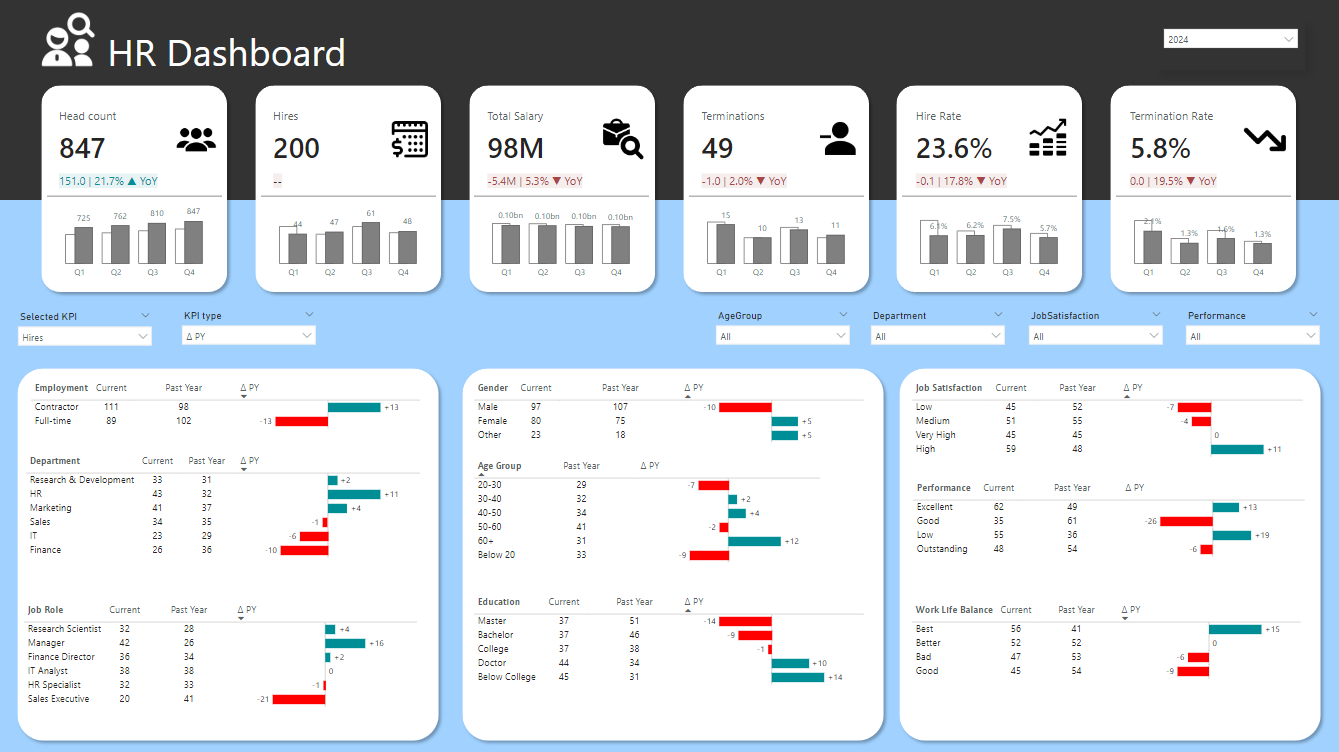

Layout of this report page (visuals, bound fields, positions):
{"tool":"powerbi","page":{"name":"HR Overview","canvas":[1920,1080],"ordinal":0},"visuals":[{"type":"shape","box":[0,0,1920,285.7],"z":0},{"type":"shape","box":[1580,113.3,283.3,313.3],"z":1000},{"type":"shape","box":[1278.3,516.7,620,550],"z":2000},{"type":"shape","box":[969.3,113.3,283.3,313.3],"z":3000},{"type":"shape","box":[18.3,516.7,620,550],"z":4000},{"type":"shape","box":[664,113.3,283.3,313.3],"z":5000},{"type":"shape","box":[655,516.7,620,550],"z":6000},{"type":"shape","box":[53.3,113.3,283.3,313.3],"z":7000},{"type":"shape","box":[358.7,113.3,283.3,313.3],"z":8000},{"type":"shape","box":[1274.7,113.3,283.3,313.3],"z":9000},{"type":"cardVisual","fields":{"Data":["_Measures.1_Headcount","_Measures.2_Hires","_Measures.3_TotalSalary","_Measures.4_Terminations","_Measures.5_HireRate","_Measures.6_TerminationRate"]},"box":[70,135,1850,150],"z":10000},{"type":"slicer","fields":{"Values":["Date.Year"]},"box":[1655.7,31.4,211,68],"z":11000},{"type":"clusteredColumnChart","title":" ","fields":{"Y":["_Measures.1_Headcount LY","_Measures.1_Headcount"],"Category":["Date.Quarter"]},"box":[70,255,250,150],"z":12000},{"type":"clusteredColumnChart","title":" ","fields":{"Y":["_Measures.2_Hires LY","_Measures.2_Hires"],"Category":["Date.Quarter"]},"box":[375,255,250,150],"z":13000},{"type":"clusteredColumnChart","title":" ","fields":{"Y":["_Measures.3_TotalSalary LY","_Measures.3_TotalSalary"],"Category":["Date.Quarter"]},"box":[680,255,250,150],"z":14000},{"type":"clusteredColumnChart","title":" ","fields":{"Y":["_Measures.4_Terminations LY","_Measures.4_Terminations"],"Category":["Date.Quarter"]},"box":[986.7,255,250,150],"z":15000},{"type":"clusteredColumnChart","title":" ","fields":{"Y":["_Measures.5_HireRate LY","_Measures.5_HireRate"],"Category":["Date.Quarter"]},"box":[1291.7,255,250,150],"z":16000},{"type":"clusteredColumnChart","title":" ","fields":{"Y":["_Measures.6_TerminationRate LY","_Measures.6_TerminationRate"],"Category":["Date.Quarter"]},"box":[1596.7,255,250,150],"z":17000},{"type":"slicer","fields":{"Values":["Metric Selection.Selected_KPI"]},"box":[18.6,438.6,211.4,67.1],"z":18000},{"type":"slicer","fields":{"Values":["KPI type.KPI type"]},"box":[252.9,437.1,211.4,68.6],"z":19000},{"type":"tableEx","fields":{"Values":["DataTable.Education","Metric Selection.Current","Metric Selection.Past Year","Metric Selection.DeltaPY SVG"]},"box":[674.3,845.7,570,145.7],"z":20000},{"type":"tableEx","fields":{"Values":["DataTable.EmploymentType","Metric Selection.Current","Metric Selection.Past Year","Metric Selection.DeltaPY SVG"]},"box":[41.4,540,570,91.4],"z":21000},{"type":"tableEx","fields":{"Values":["DataTable.Department","Metric Selection.Current","Metric Selection.Past Year","Metric Selection.DeltaPY SVG"]},"box":[34.3,644.3,577.1,201.4],"z":22000},{"type":"tableEx","fields":{"Values":["DataTable.AgeGroup","Metric Selection.Past Year","Metric Selection.DeltaPY SVG"]},"box":[674.3,651.4,570,181.4],"z":23000},{"type":"tableEx","fields":{"Values":["DataTable.Gender","Metric Selection.Current","Metric Selection.Past Year","Metric Selection.DeltaPY SVG"]},"box":[674.3,540,570,104.3],"z":24000},{"type":"tableEx","fields":{"Values":["DataTable.JobRole","Metric Selection.Current","Metric Selection.Past Year","Metric Selection.DeltaPY SVG"]},"box":[31.4,857.1,577.1,161.4],"z":25000},{"type":"tableEx","fields":{"Values":["DataTable.JobSatisfaction","Metric Selection.Current","Metric Selection.Past Year","Metric Selection.DeltaPY SVG"]},"box":[1300,540,571.4,142.9],"z":26000},{"type":"tableEx","fields":{"Values":["DataTable.Performance","Metric Selection.Current","Metric Selection.Past Year","Metric Selection.DeltaPY SVG"]},"box":[1301.4,682.9,570,135.7],"z":27000},{"type":"tableEx","fields":{"Values":["DataTable.WorkLifeBalance","Metric Selection.Current","Metric Selection.Past Year","Metric Selection.DeltaPY SVG"]},"box":[1300,857.1,571.4,132.9],"z":28000},{"type":"slicer","fields":{"Values":["DataTable.AgeGroup"]},"box":[1015.7,437.1,211.4,68.6],"z":29000},{"type":"slicer","fields":{"Values":["DataTable.Department"]},"box":[1237.1,437.1,211.4,68.6],"z":30000},{"type":"slicer","fields":{"Values":["DataTable.Performance"]},"box":[1687.1,437.1,211.4,68.6],"z":31000},{"type":"slicer","fields":{"Values":["DataTable.JobSatisfaction"]},"box":[1462.9,437.1,211.4,68.6],"z":32000},{"type":"image","box":[551.4,152.9,74.3,91.4],"z":33000},{"type":"image","box":[855.7,162.9,74.3,71.4],"z":34000},{"type":"image","box":[1162.9,165.7,74.3,64.3],"z":35000},{"type":"image","box":[1462.9,162.9,74.3,65.7],"z":36000},{"type":"image","box":[1772.9,164.9,74.3,70],"z":37000},{"type":"image","box":[245.7,162.9,74.3,71.4],"z":38000},{"type":"textbox","box":[8.6,5.7,654.3,224.3],"z":39000},{"type":"image","box":[52.9,12.9,95.7,87.1],"z":40000}]}

Visuals, with their boxes in screenshot pixels (x1, y1, x2, y2), scaled from the page's 1920x1080 canvas onto the 1339x752 screenshot:
shape: {"x1": 0, "y1": 0, "x2": 1338, "y2": 199}
shape: {"x1": 1102, "y1": 79, "x2": 1299, "y2": 297}
shape: {"x1": 891, "y1": 360, "x2": 1324, "y2": 743}
shape: {"x1": 676, "y1": 79, "x2": 874, "y2": 297}
shape: {"x1": 13, "y1": 360, "x2": 445, "y2": 743}
shape: {"x1": 463, "y1": 79, "x2": 661, "y2": 297}
shape: {"x1": 457, "y1": 360, "x2": 889, "y2": 743}
shape: {"x1": 37, "y1": 79, "x2": 235, "y2": 297}
shape: {"x1": 250, "y1": 79, "x2": 448, "y2": 297}
shape: {"x1": 889, "y1": 79, "x2": 1087, "y2": 297}
cardVisual - _Measures.1_Headcount x _Measures.2_Hires: {"x1": 49, "y1": 94, "x2": 1338, "y2": 198}
slicer - Date.Year: {"x1": 1155, "y1": 22, "x2": 1302, "y2": 69}
" " clusteredColumnChart: {"x1": 49, "y1": 178, "x2": 223, "y2": 282}
" " clusteredColumnChart: {"x1": 262, "y1": 178, "x2": 436, "y2": 282}
" " clusteredColumnChart: {"x1": 474, "y1": 178, "x2": 649, "y2": 282}
" " clusteredColumnChart: {"x1": 688, "y1": 178, "x2": 862, "y2": 282}
" " clusteredColumnChart: {"x1": 901, "y1": 178, "x2": 1075, "y2": 282}
" " clusteredColumnChart: {"x1": 1114, "y1": 178, "x2": 1288, "y2": 282}
slicer - Metric Selection.Selected_KPI: {"x1": 13, "y1": 305, "x2": 160, "y2": 352}
slicer - KPI type.KPI type: {"x1": 176, "y1": 304, "x2": 324, "y2": 352}
tableEx - DataTable.Education x Metric Selection.Current: {"x1": 470, "y1": 589, "x2": 868, "y2": 690}
tableEx - DataTable.EmploymentType x Metric Selection.Current: {"x1": 29, "y1": 376, "x2": 426, "y2": 440}
tableEx - DataTable.Department x Metric Selection.Current: {"x1": 24, "y1": 449, "x2": 426, "y2": 589}
tableEx - DataTable.AgeGroup x Metric Selection.Past Year: {"x1": 470, "y1": 454, "x2": 868, "y2": 580}
tableEx - DataTable.Gender x Metric Selection.Current: {"x1": 470, "y1": 376, "x2": 868, "y2": 449}
tableEx - DataTable.JobRole x Metric Selection.Current: {"x1": 22, "y1": 597, "x2": 424, "y2": 709}
tableEx - DataTable.JobSatisfaction x Metric Selection.Current: {"x1": 907, "y1": 376, "x2": 1305, "y2": 476}
tableEx - DataTable.Performance x Metric Selection.Current: {"x1": 908, "y1": 476, "x2": 1305, "y2": 570}
tableEx - DataTable.WorkLifeBalance x Metric Selection.Current: {"x1": 907, "y1": 597, "x2": 1305, "y2": 689}
slicer - DataTable.AgeGroup: {"x1": 708, "y1": 304, "x2": 856, "y2": 352}
slicer - DataTable.Department: {"x1": 863, "y1": 304, "x2": 1010, "y2": 352}
slicer - DataTable.Performance: {"x1": 1177, "y1": 304, "x2": 1324, "y2": 352}
slicer - DataTable.JobSatisfaction: {"x1": 1020, "y1": 304, "x2": 1168, "y2": 352}
image: {"x1": 385, "y1": 106, "x2": 436, "y2": 170}
image: {"x1": 597, "y1": 113, "x2": 649, "y2": 163}
image: {"x1": 811, "y1": 115, "x2": 863, "y2": 160}
image: {"x1": 1020, "y1": 113, "x2": 1072, "y2": 159}
image: {"x1": 1236, "y1": 115, "x2": 1288, "y2": 164}
image: {"x1": 171, "y1": 113, "x2": 223, "y2": 163}
textbox: {"x1": 6, "y1": 4, "x2": 462, "y2": 160}
image: {"x1": 37, "y1": 9, "x2": 104, "y2": 70}
